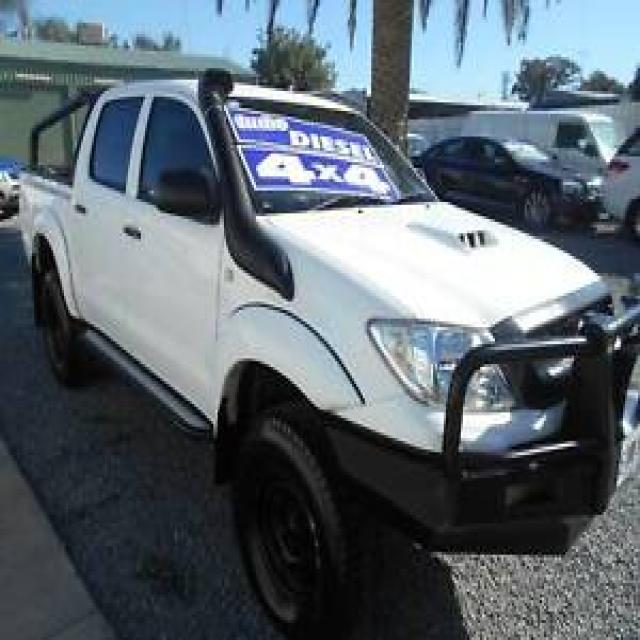light_vehicle: (6, 63, 638, 637)
